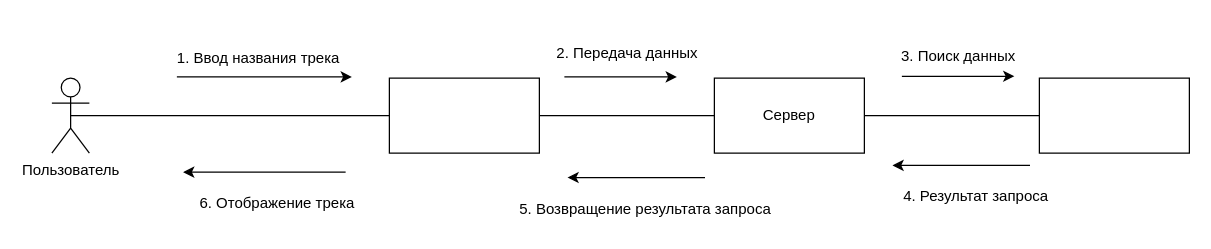
This 1211x249 diagram has some shape labels left out. The box of each missing label's shape, as (x1, y1, x2, y2) in pixels:
База данных: (1038, 77, 1189, 153)
Клиент: (388, 77, 539, 153)
